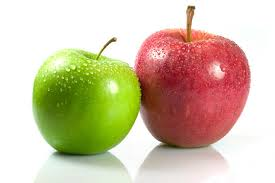apple: (141, 29, 252, 150), (36, 52, 139, 157)
